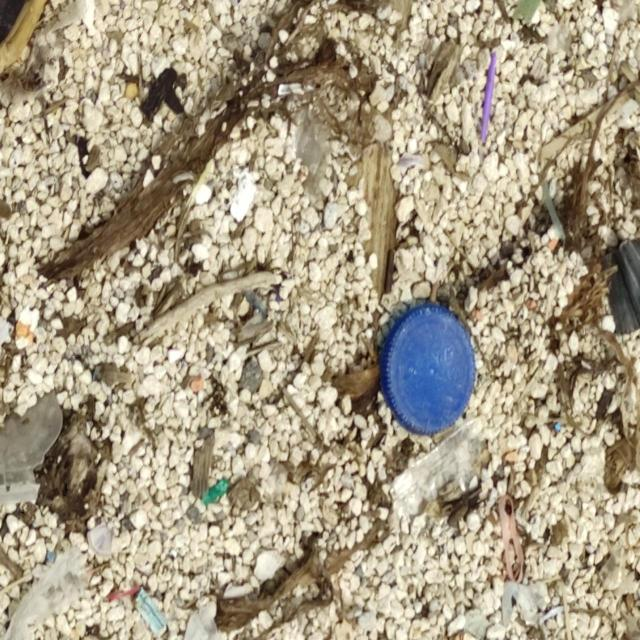plastic_waste: (379, 303, 478, 438), (481, 51, 500, 144)
